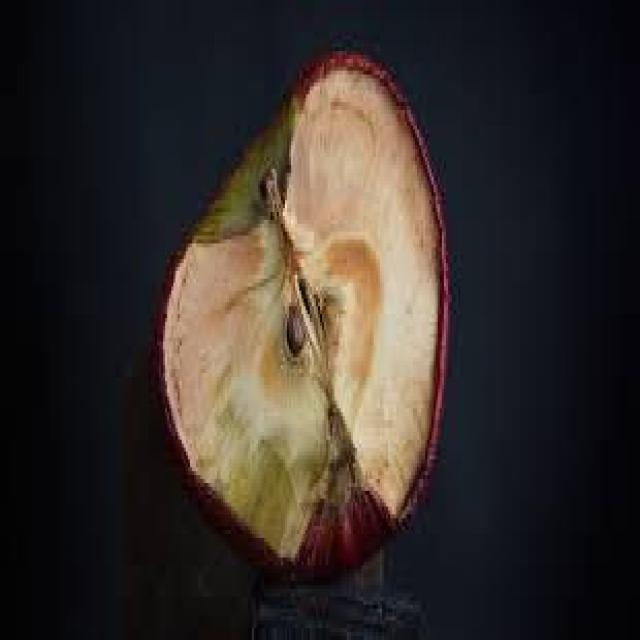Rotten: (143, 31, 459, 588)
